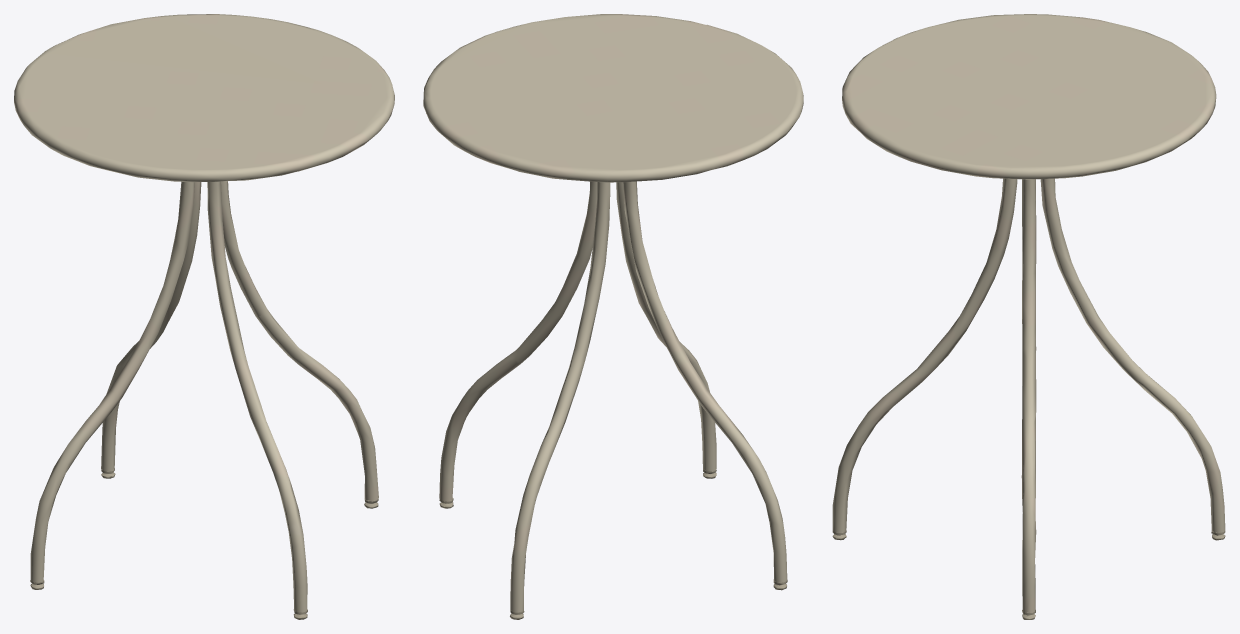
File: 07 - TÅNEBRO Side table - inoutdoorpale yellow 46 cm.glb
3 renders of one model, left to right at view 1: azimuth 30°, elevation 25°; view 2: azimuth 150°, elevation 25°; view 3: azimuth 270°, elevation 25°, orthographic.
Visible parts, largest first — view 1: ASY_ART_70605162_S01_NV01, ASY_LPT03_70605162_S01_NV01, ASY_LPT04_70605162_S01_NV01, ASY_LPT02_70605162_S01_NV01, ASY_LPT01_70605162_S01_NV01; view 2: ASY_ART_70605162_S01_NV01, ASY_LPT01_70605162_S01_NV01, ASY_LPT04_70605162_S01_NV01, ASY_LPT02_70605162_S01_NV01, ASY_LPT03_70605162_S01_NV01; view 3: ASY_ART_70605162_S01_NV01, ASY_LPT02_70605162_S01_NV01, ASY_LPT03_70605162_S01_NV01, ASY_LPT01_70605162_S01_NV01.
Boxes of the visible parts, x1,y1,x2,y2 form: ASY_ART_70605162_S01_NV01: (14,14,394,182); ASY_LPT03_70605162_S01_NV01: (207,181,307,619); ASY_LPT04_70605162_S01_NV01: (30,181,194,589); ASY_LPT02_70605162_S01_NV01: (221,181,378,508); ASY_LPT01_70605162_S01_NV01: (101,182,201,478); ASY_ART_70605162_S01_NV01: (423,14,803,182); ASY_LPT01_70605162_S01_NV01: (510,182,610,619); ASY_LPT04_70605162_S01_NV01: (623,181,787,590); ASY_LPT02_70605162_S01_NV01: (439,181,597,508); ASY_LPT03_70605162_S01_NV01: (616,182,716,478); ASY_ART_70605162_S01_NV01: (842,14,1216,179); ASY_LPT02_70605162_S01_NV01: (1021,179,1036,619); ASY_LPT03_70605162_S01_NV01: (832,178,1017,540); ASY_LPT01_70605162_S01_NV01: (1040,178,1225,540).
Bounding box in the file's own units: 0.4826 × 0.6057 × 0.4829.
5 materials, 5 textured.
